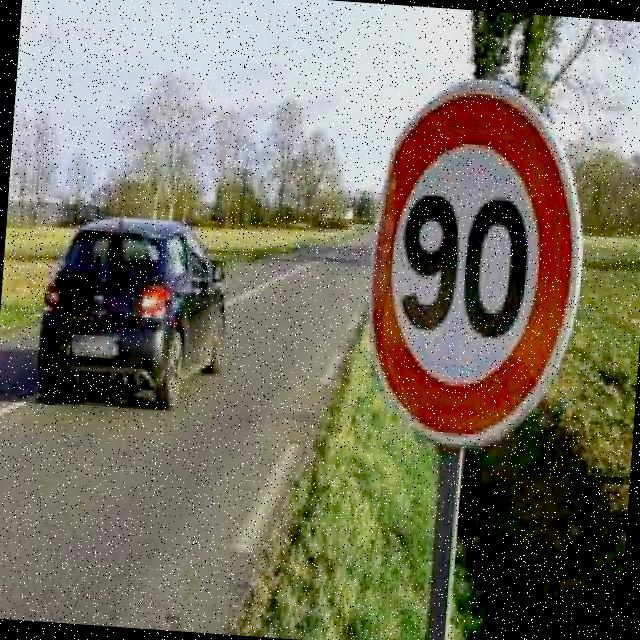Ograniczenie predkosci do 90: (366, 74, 584, 450)
